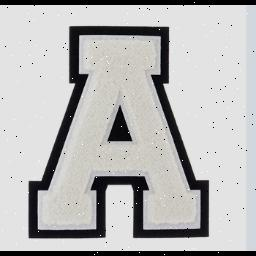a: (23, 20, 233, 244)
